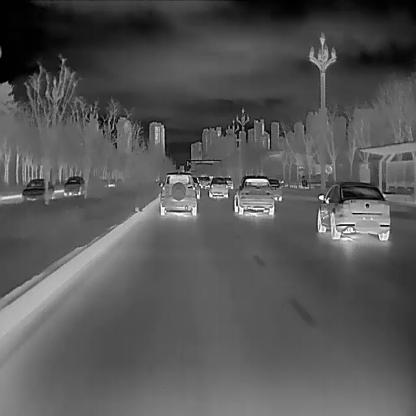car: (317, 181, 390, 240), (159, 171, 197, 214), (234, 174, 274, 214), (21, 177, 54, 198), (63, 175, 84, 195), (208, 176, 228, 197), (268, 177, 281, 200), (192, 174, 200, 198), (200, 175, 210, 187), (224, 174, 233, 187)
